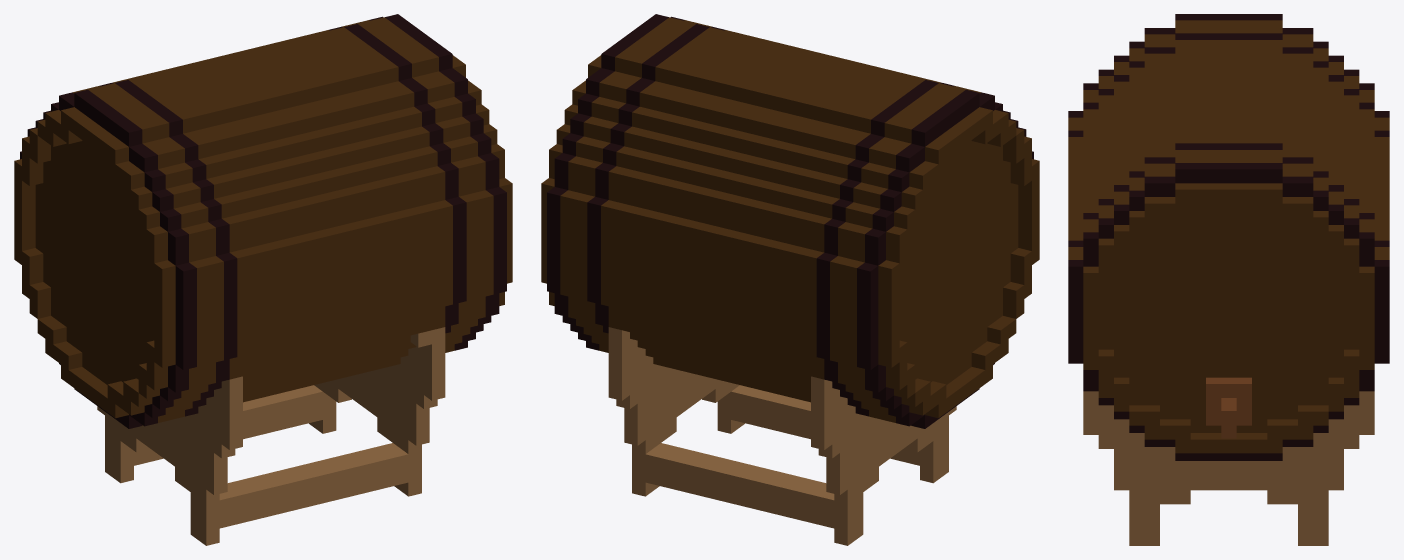
Rendered from Baril de vin.obj.
3 views of the same model, side by side, from view 1: azimuth 30°, elevation 25°; view 2: azimuth 150°, elevation 25°; view 3: azimuth 270°, elevation 25° (orthographic).
Parts seen in each view (by area): view 1: Baril de vin; view 2: Baril de vin; view 3: Baril de vin.
Part boxes in pixels (x1,y1,x2,y2): Baril de vin: (14,14,512,545); Baril de vin: (541,14,1039,545); Baril de vin: (1068,14,1389,545).
Size of the model in its own units: 28 by 29 by 21.
1 material, 1 textured.
